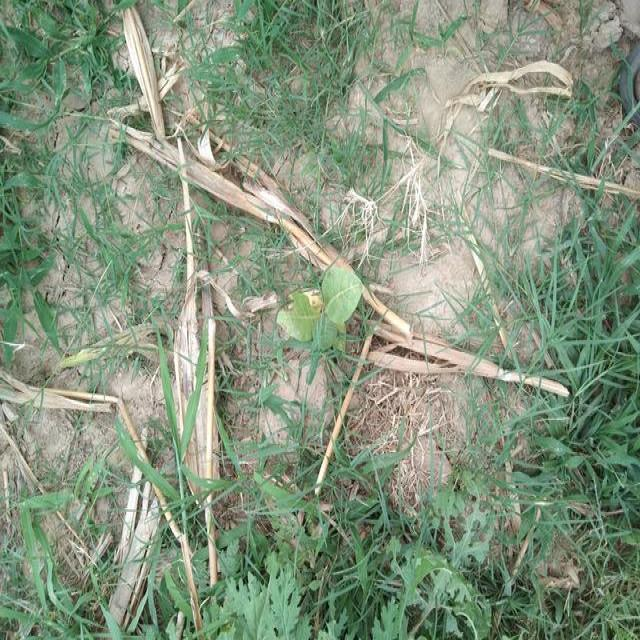crop: (265, 252, 366, 372)
